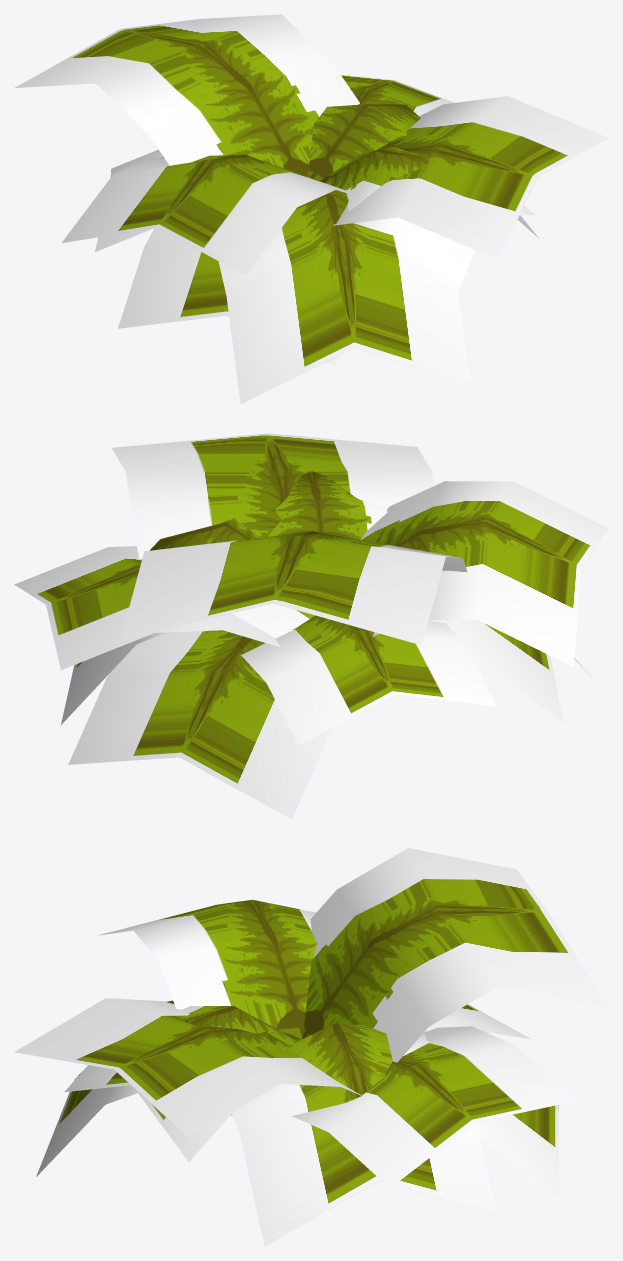
The model's file is Fern_Bush_Light_1.fbx.
The picture shows the model from 3 angles, top to bottom: view 1: azimuth 30°, elevation 25°; view 2: azimuth 150°, elevation 25°; view 3: azimuth 270°, elevation 25°; orthographic projection. The views are drawn at different scales.
Parts seen in each view (by area): view 1: Fern_Bush_1; view 2: Fern_Bush_1; view 3: Fern_Bush_1.
Boxes of the visible parts, bbox=[...] form: Fern_Bush_1: bbox=[15, 14, 608, 404]; Fern_Bush_1: bbox=[14, 433, 608, 819]; Fern_Bush_1: bbox=[14, 848, 608, 1246].
Size of the model in its own units: 0.0238 by 0.0103 by 0.0242.
